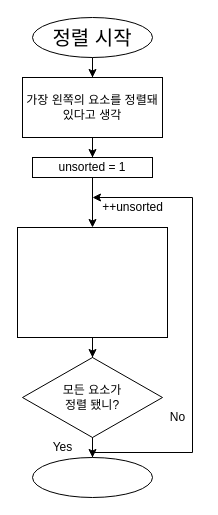
Image size: 218x515. Some labels were removed from this diagram. Here are the shapes that lost their labels. From the top down, the centre of each, then its label:
At [92,282]: "j = unsorted j부터 시작해서 j-1과 비교하며 왼쪽으로 swap하며 제자리를 찾아가게함".
At [92,477]: "정렬 끝".
